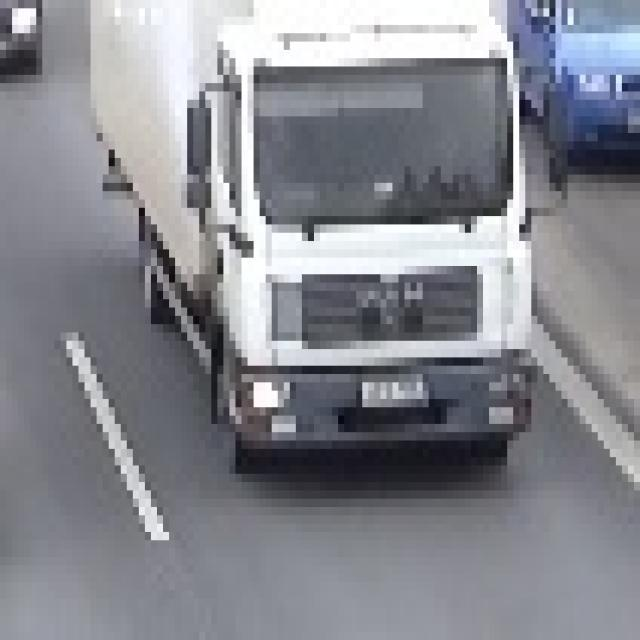truck: (84, 0, 562, 457)
